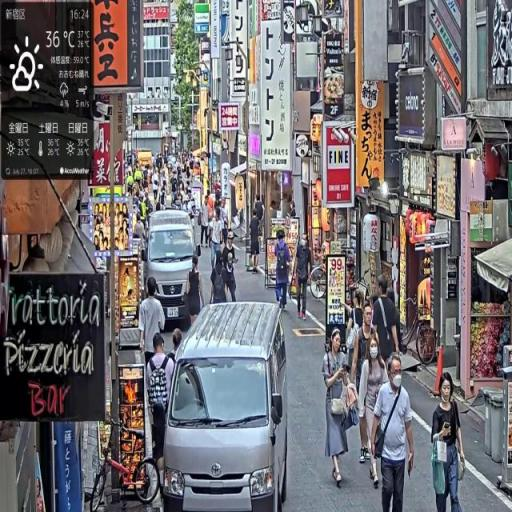person: (371, 353, 417, 512), (322, 327, 356, 489), (430, 374, 468, 512), (359, 332, 391, 493), (147, 334, 176, 474), (372, 279, 405, 372), (183, 252, 206, 328), (294, 231, 313, 322), (274, 232, 293, 311), (223, 232, 240, 304)
